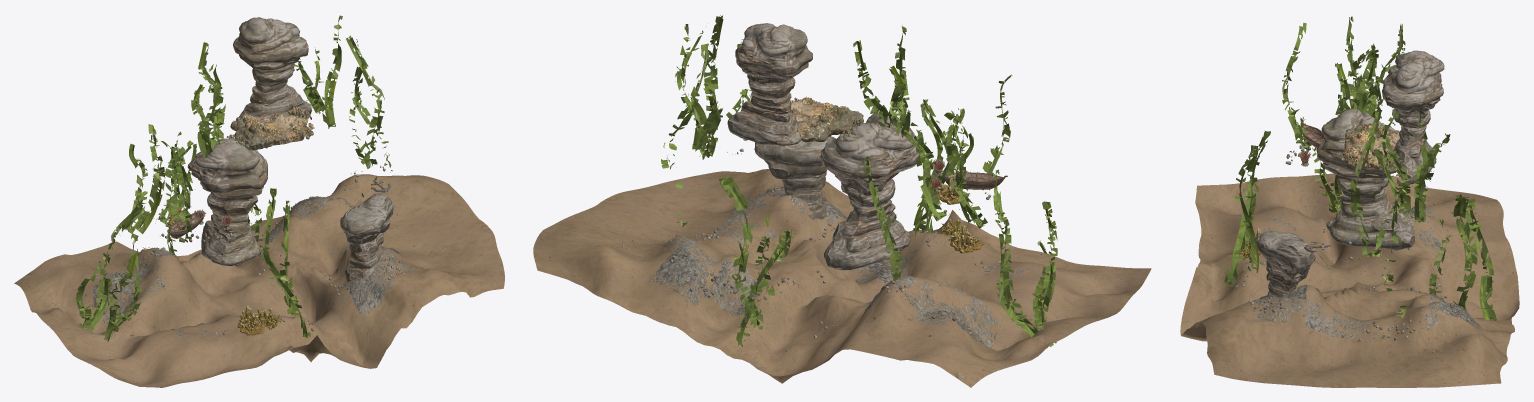
The model's file is Underwater environment 2.fbx.
3 views of the same model, side by side, from view 1: azimuth 30°, elevation 25°; view 2: azimuth 150°, elevation 25°; view 3: azimuth 270°, elevation 25° (orthographic). The views are drawn at different scales.
Visible parts, largest first — view 1: Plane049, Object1035, pilar_rock006, pilar_rock005, Object1040, pilar_rock004, floor_modul_006, Object1251, boat-smal001; view 2: Plane049, Object1035, pilar_rock006, Object1040, pilar_rock005, pilar_rock004, floor_modul_006, Object1251, boat-smal001; view 3: Plane049, Object1035, pilar_rock006, pilar_rock005, Object1040, pilar_rock004, floor_modul_006, Object1251, boat-smal001.
Part boxes in pixels (x1,y1,x2,y2): Plane049: (14,174,504,387); Object1035: (76,15,391,341); pilar_rock006: (187,138,267,266); pilar_rock005: (233,17,311,118); Object1040: (93,196,418,339); pilar_rock004: (340,193,393,281); floor_modul_006: (227,106,314,150); Object1251: (92,165,404,338); boat-smal001: (167,210,203,238); Plane049: (533,169,1151,387); Object1035: (661,15,1057,347); pilar_rock006: (820,113,919,270); Object1040: (650,184,1029,348); pilar_rock005: (727,23,812,145); pilar_rock004: (754,136,835,219); floor_modul_006: (791,96,864,142); Object1251: (617,143,999,342); boat-smal001: (944,170,1007,189); Plane049: (1180,173,1519,387); Object1035: (1224,16,1496,328); pilar_rock006: (1316,108,1414,250); pilar_rock005: (1382,50,1444,184); Object1040: (1245,204,1479,338); pilar_rock004: (1255,231,1315,298); floor_modul_006: (1341,123,1399,174); Object1251: (1234,145,1470,358); boat-smal001: (1302,121,1325,148).
Size of what is drawn, in the model's own units: 8660 by 5403 by 5478.
